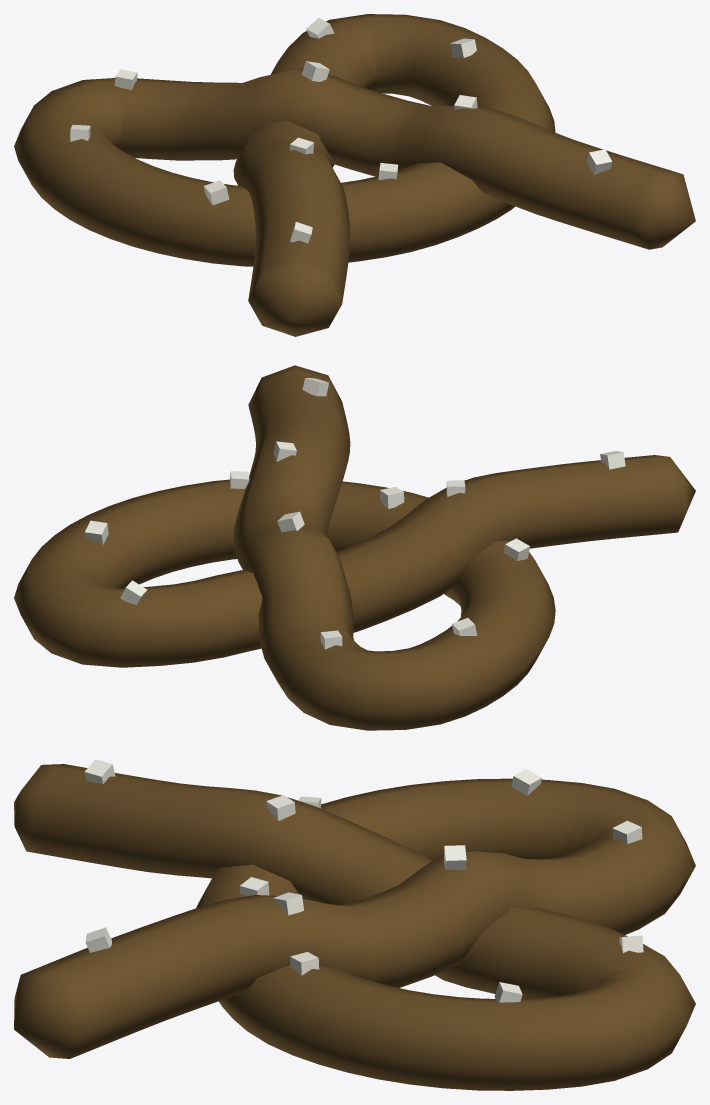
Rendered from shot_pretzel.glb.
3 renders of one model, top to bottom at view 1: azimuth 30°, elevation 25°; view 2: azimuth 150°, elevation 25°; view 3: azimuth 270°, elevation 25°, orthographic. The views are drawn at different scales.
Visible parts, largest first — view 1: pz_rope; view 2: pz_rope; view 3: pz_rope, pz_salt.010, pz_salt, pz_salt.008, pz_salt.001, pz_salt.009.
Boxes of the visible parts, x1,y1,x2,y2 form: pz_rope: [14, 14, 695, 336]; pz_rope: [14, 365, 695, 730]; pz_rope: [14, 764, 695, 1090]; pz_salt.010: [444, 845, 466, 869]; pz_salt: [84, 759, 115, 783]; pz_salt.008: [511, 769, 541, 795]; pz_salt.001: [266, 795, 295, 820]; pz_salt.009: [612, 820, 642, 844].
Bounding box in the file's own units: 12.73 × 3.12 × 13.78.
